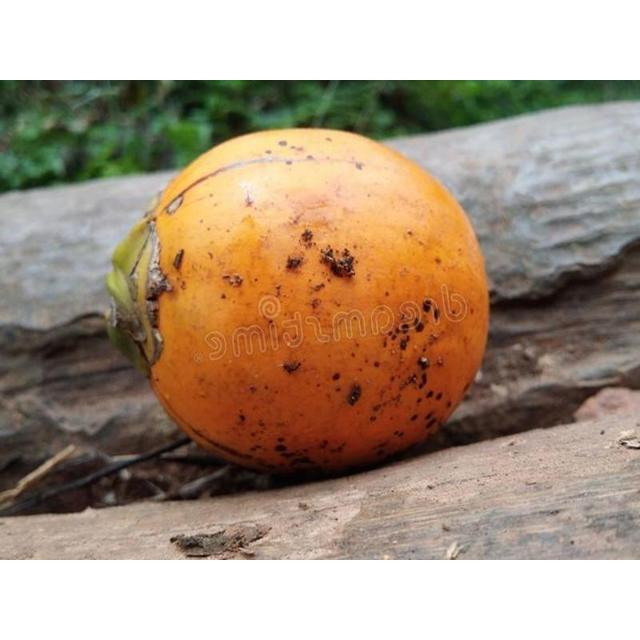good: (105, 128, 491, 482)
